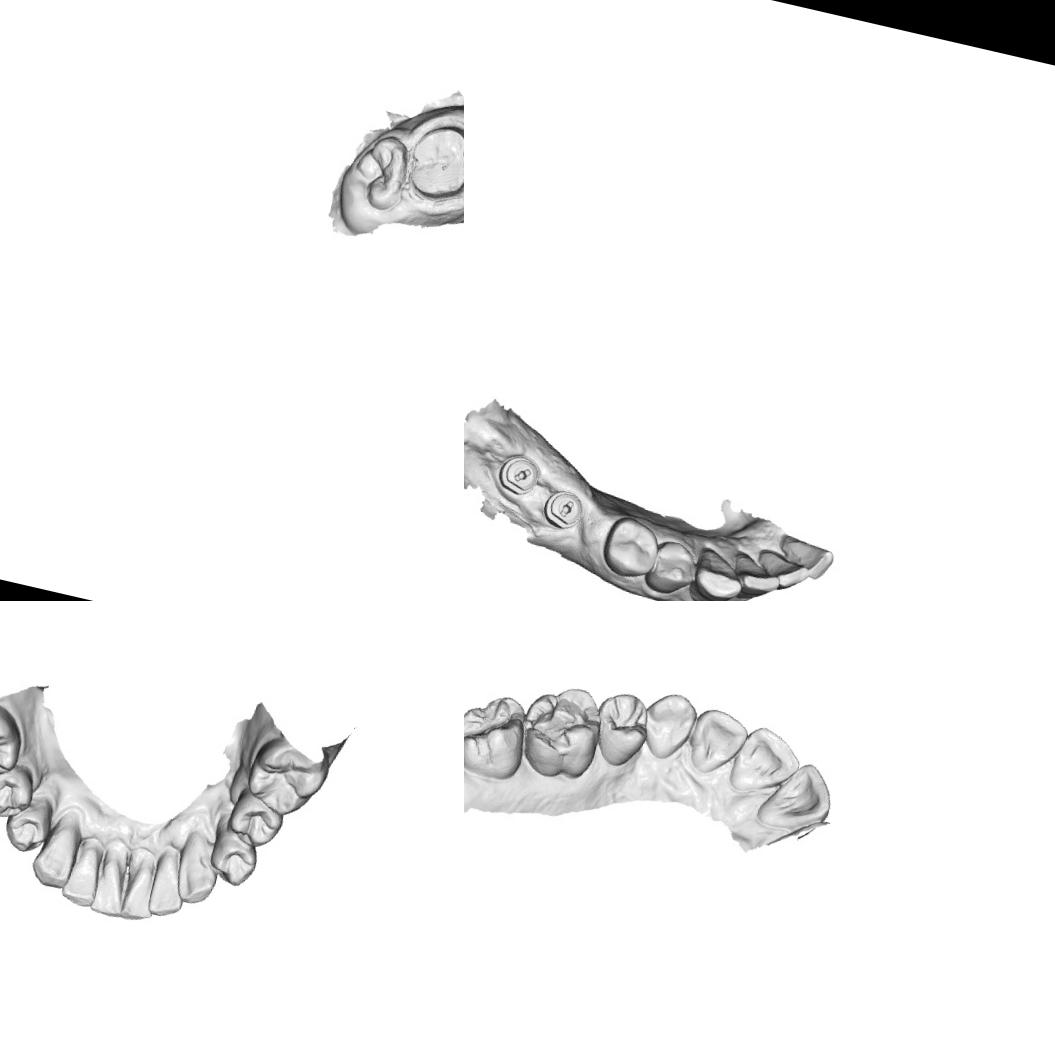canine: (636, 687, 702, 766), (26, 818, 82, 893), (168, 841, 224, 910), (687, 544, 749, 601)
crown: (399, 113, 464, 211)
implant_minus: (492, 448, 543, 499), (538, 485, 588, 534)
incisor: (753, 752, 840, 840), (726, 722, 807, 802), (683, 704, 753, 780), (143, 850, 193, 922), (774, 530, 838, 582), (58, 842, 106, 910), (86, 855, 134, 920), (752, 549, 811, 596), (119, 862, 162, 925), (728, 559, 782, 601)
inlay: (524, 690, 596, 759)
molar: (238, 732, 334, 824), (464, 686, 535, 786), (346, 126, 416, 214), (0, 693, 31, 790)
premolar: (586, 686, 655, 773), (597, 512, 664, 584), (222, 788, 288, 855), (202, 825, 264, 891), (0, 790, 59, 859), (643, 536, 702, 600), (0, 760, 39, 824)
